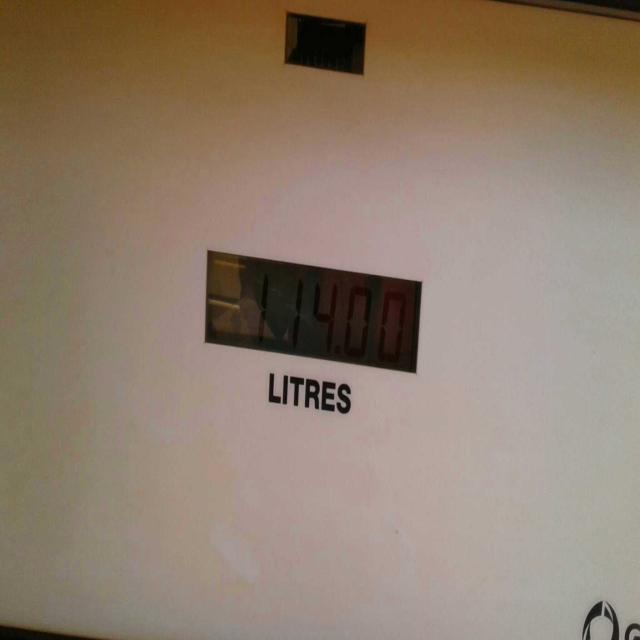.: (334, 345, 344, 365)
0: (340, 282, 375, 359), (378, 283, 407, 368)
1: (251, 267, 274, 348), (285, 264, 305, 350)
4: (312, 277, 338, 363)
